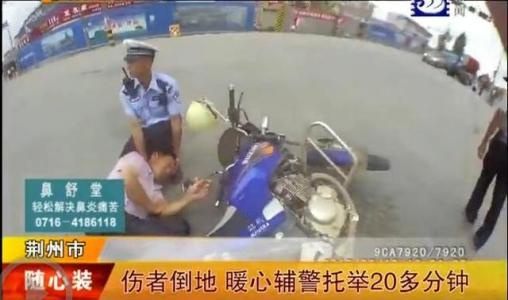falling: (95, 142, 212, 243)
